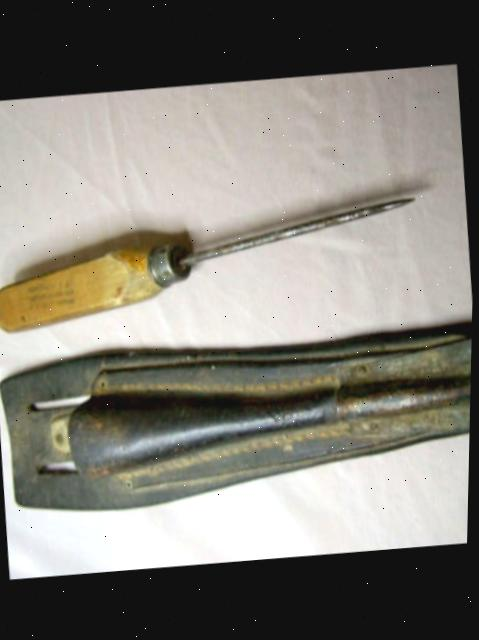ice pick: (0, 194, 423, 335)
